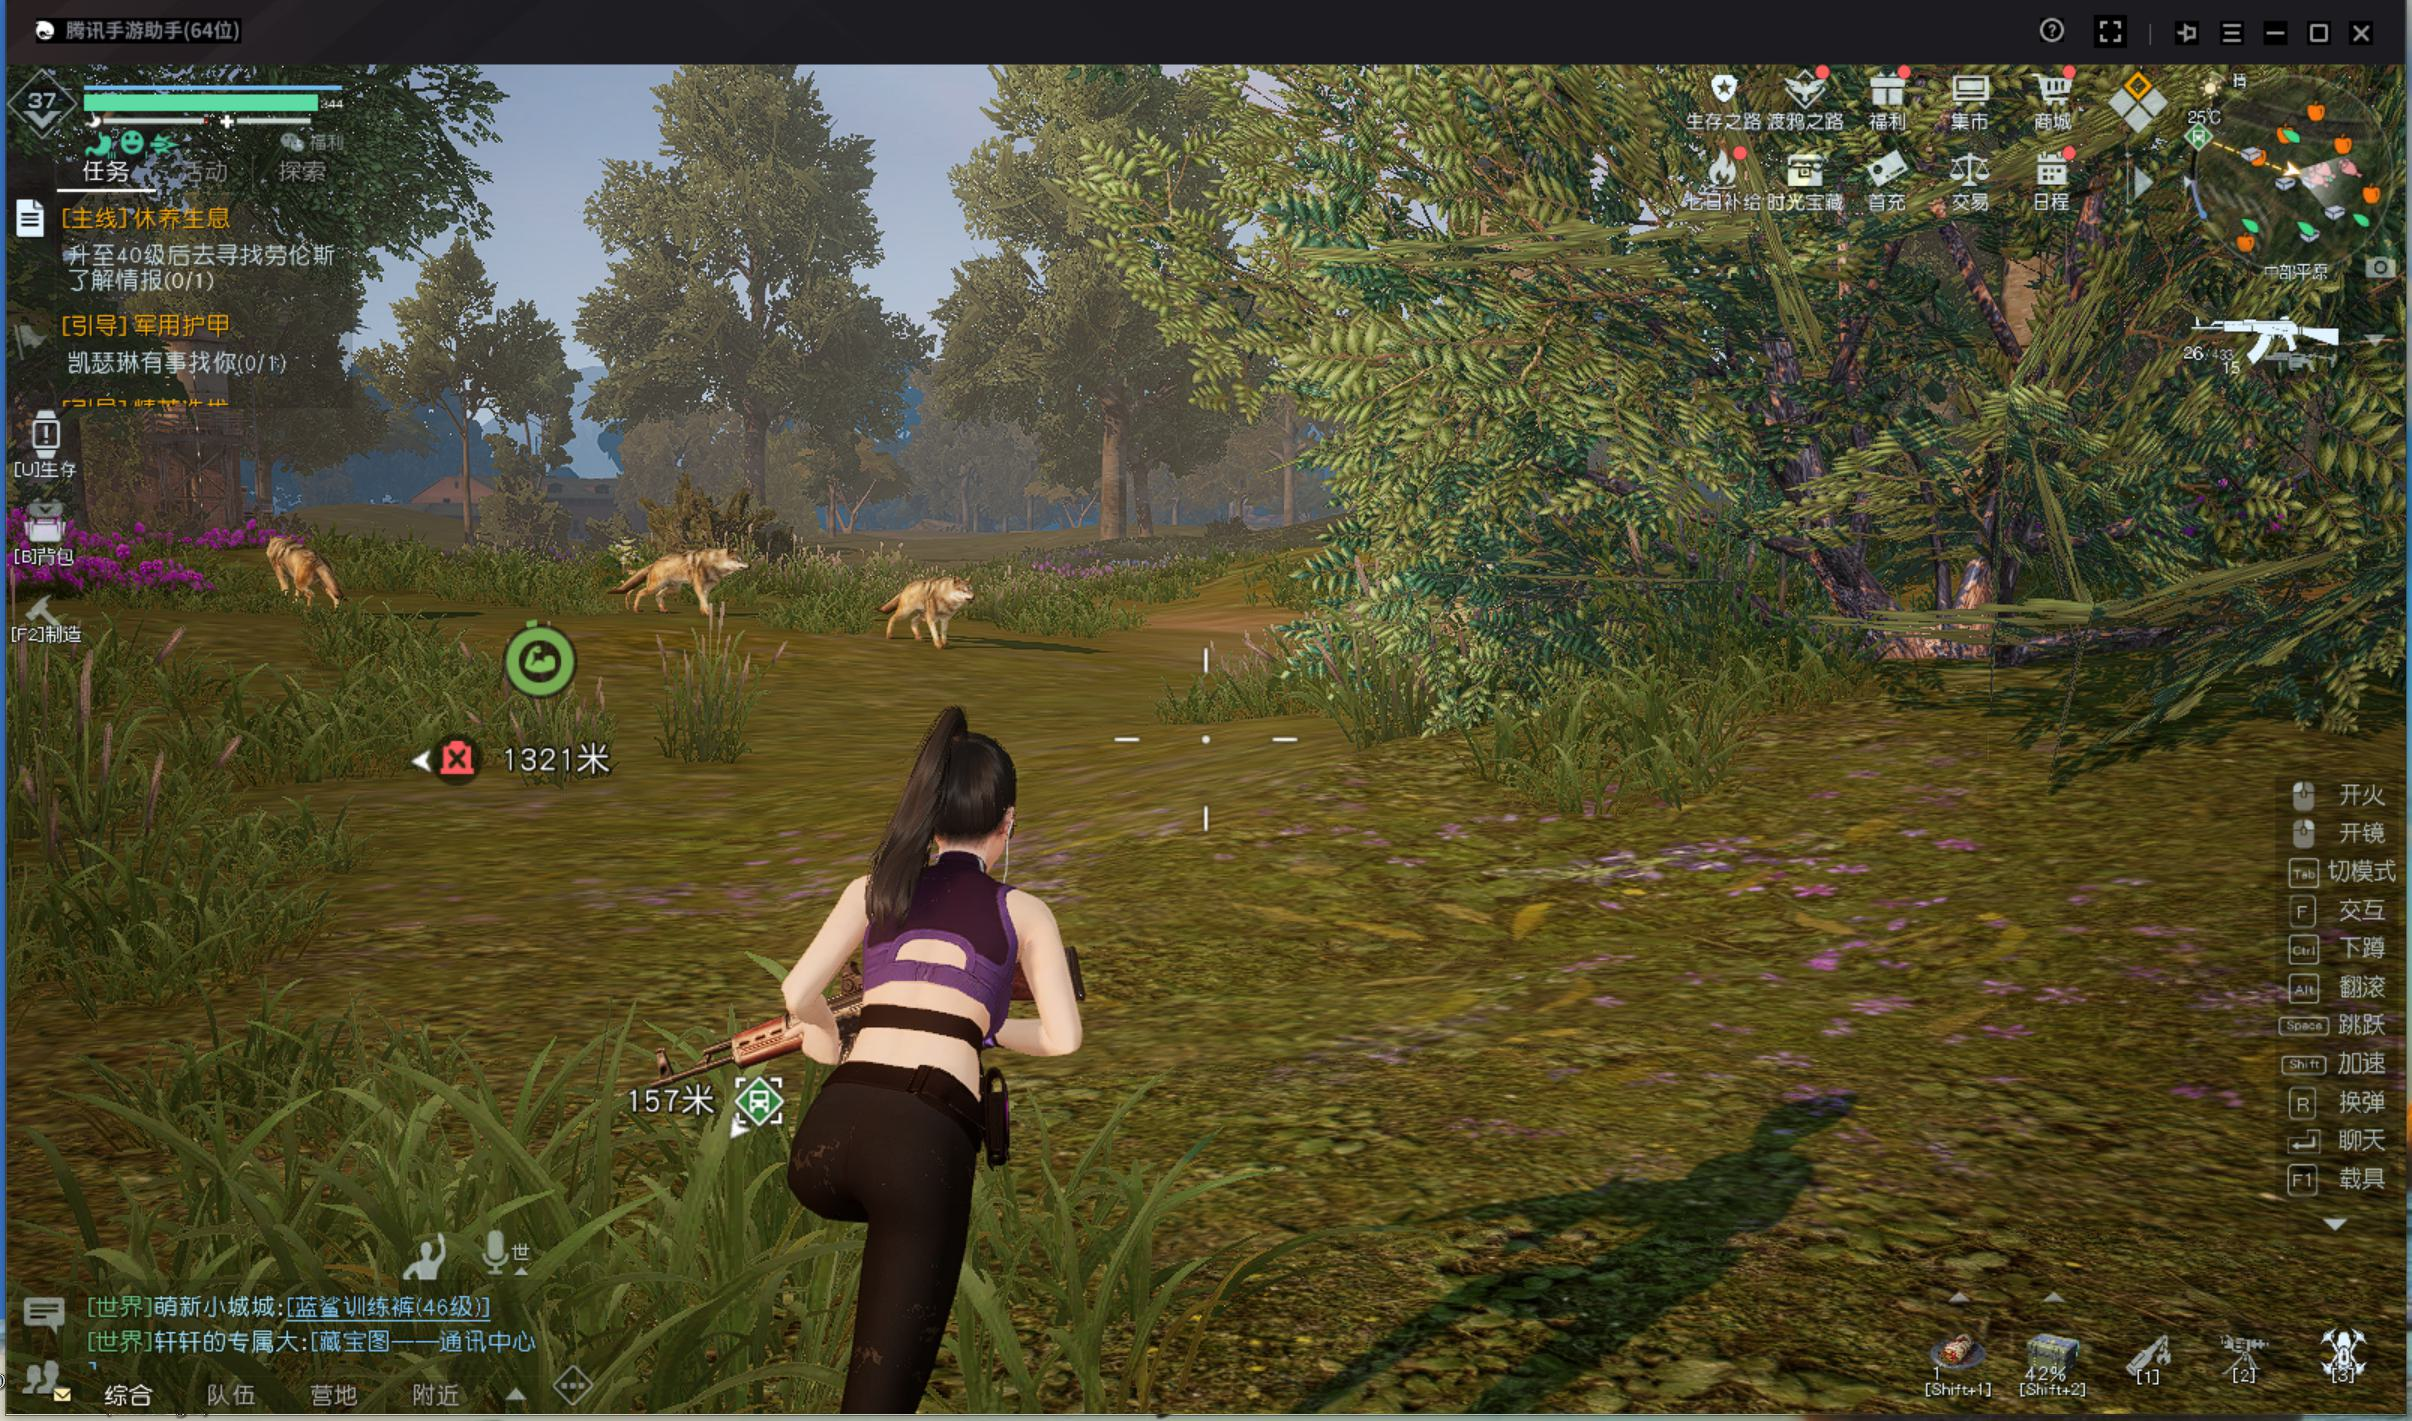tree: (1089, 428, 1138, 553), (739, 423, 776, 540), (457, 436, 477, 543)
